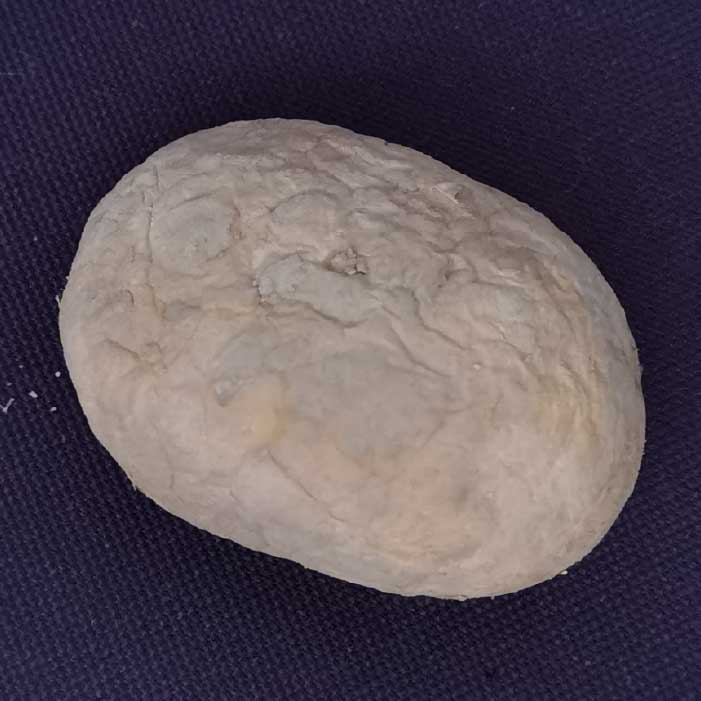Kartoffel: (59, 118, 645, 601)
